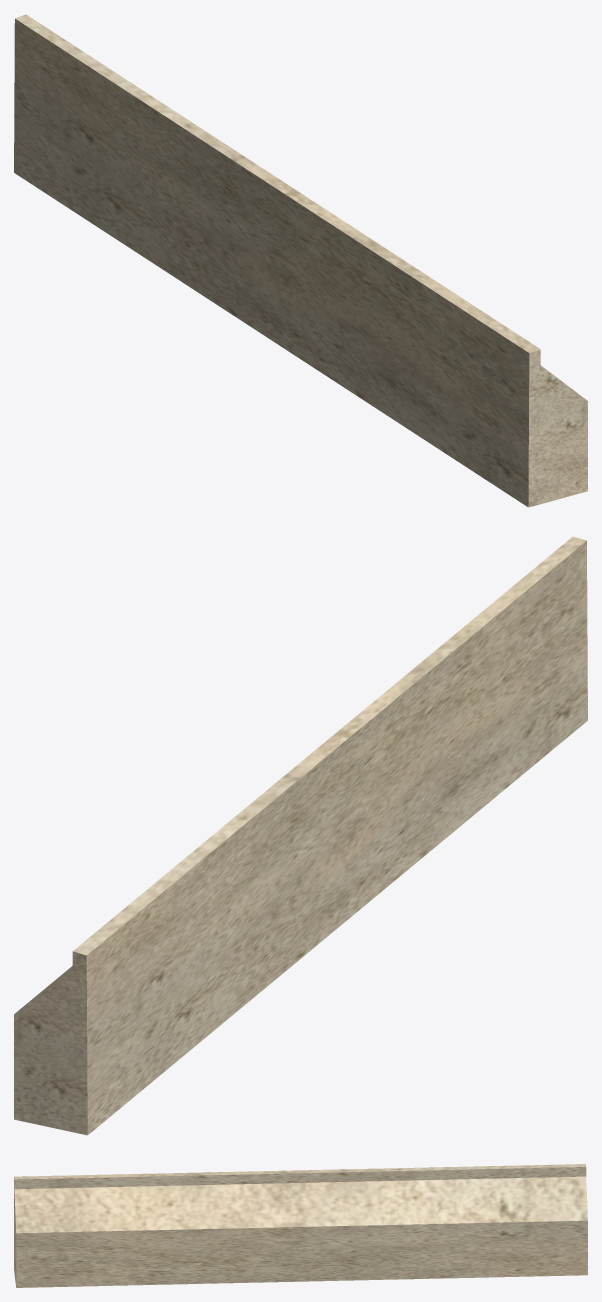
Rendered from concrete_19.fbx.
3 renders of one model, top to bottom at view 1: azimuth 30°, elevation 25°; view 2: azimuth 150°, elevation 25°; view 3: azimuth 270°, elevation 25°, orthographic. The views are drawn at different scales.
Visible parts, largest first — view 1: concrete_19; view 2: concrete_19; view 3: concrete_19.
Boxes of the visible parts, x1,y1,x2,y2 form: concrete_19: (14, 14, 587, 507); concrete_19: (14, 536, 587, 1135); concrete_19: (14, 1164, 587, 1287).
Bounding box in the file's own units: 36.3 × 51.61 × 286.
